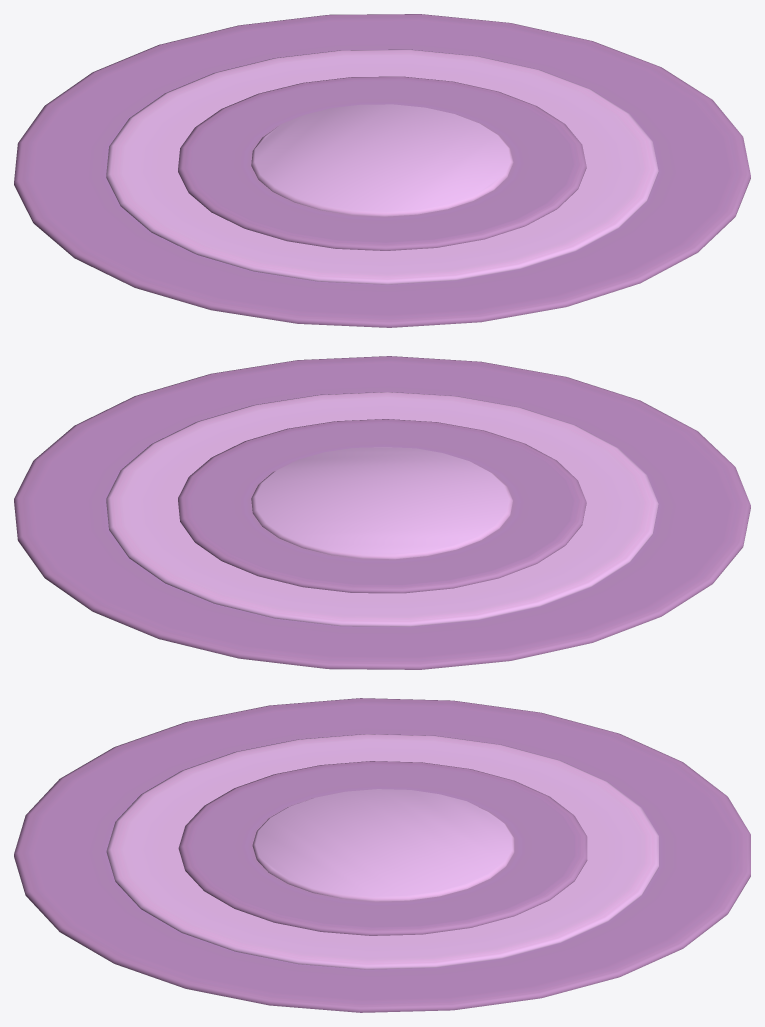
File: livingroom_carpet.fbx
The picture shows the model from 3 angles, top to bottom: view 1: azimuth 30°, elevation 25°; view 2: azimuth 150°, elevation 25°; view 3: azimuth 270°, elevation 25°; orthographic projection.
Parts seen in each view (by area): view 1: polySurface6; view 2: polySurface6; view 3: polySurface6.
Boxes of the visible parts, x1,y1,x2,y2 form: polySurface6: (14,14,750,327); polySurface6: (14,356,750,669); polySurface6: (14,698,750,1012).
Bounding box in the file's own units: 1.63 × 0.0342 × 1.63.
